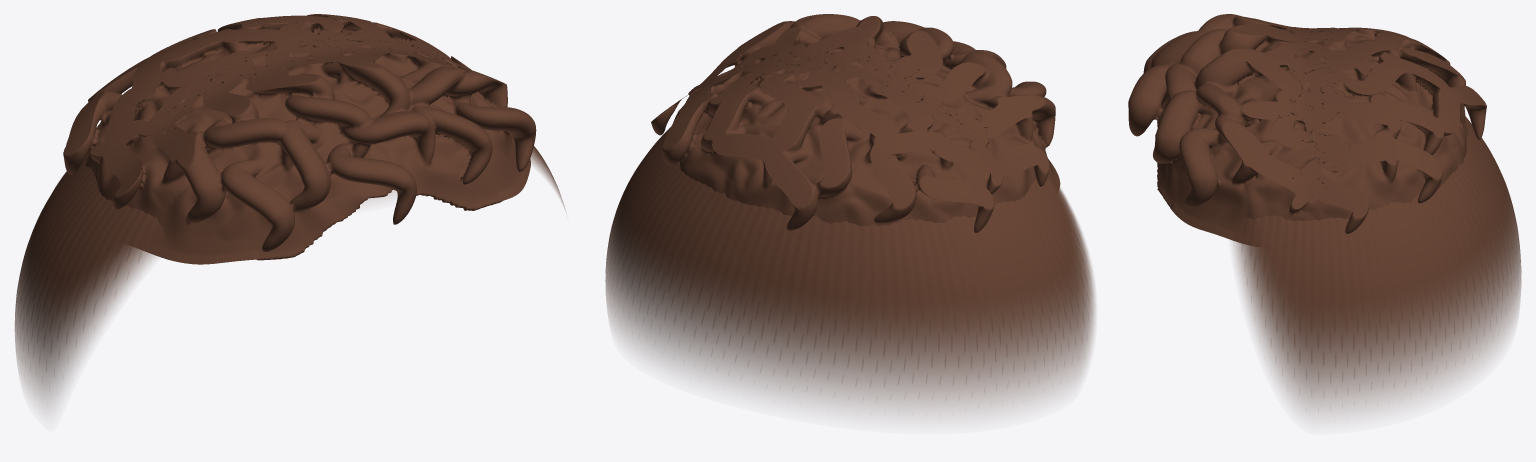
The model's file is Masculine-curly-top-pashmina257-hair.glb.
3 views of the same model, side by side, from view 1: azimuth 30°, elevation 25°; view 2: azimuth 150°, elevation 25°; view 3: azimuth 270°, elevation 25° (orthographic). The views are drawn at different scales.
Parts seen in each view (by area): view 1: 226 hair / Hair252 / sculpted curl groups, 226 hair / Hair257 / smooth side fade, 226 hair / Hair257 / directional fade marks; view 2: 226 hair / Hair257 / smooth side fade, 226 hair / Hair252 / sculpted curl groups, 226 hair / Hair257 / directional fade marks; view 3: 226 hair / Hair252 / sculpted curl groups, 226 hair / Hair257 / smooth side fade, 226 hair / Hair257 / directional fade marks.
Part boxes in pixels (x1=…): 226 hair / Hair252 / sculpted curl groups: x1=63, y1=14, x2=536, y2=264; 226 hair / Hair257 / smooth side fade: x1=15, y1=146, x2=565, y2=408; 226 hair / Hair257 / directional fade marks: x1=16, y1=146, x2=542, y2=369; 226 hair / Hair257 / smooth side fade: x1=605, y1=127, x2=1095, y2=414; 226 hair / Hair252 / sculpted curl groups: x1=651, y1=14, x2=1060, y2=232; 226 hair / Hair257 / directional fade marks: x1=615, y1=128, x2=1088, y2=385; 226 hair / Hair252 / sculpted curl groups: x1=1128, y1=14, x2=1486, y2=245; 226 hair / Hair257 / smooth side fade: x1=1231, y1=116, x2=1521, y2=415; 226 hair / Hair257 / directional fade marks: x1=1241, y1=116, x2=1514, y2=382.
Size of the model in its own units: 0.9723 by 0.6388 by 0.7499.
